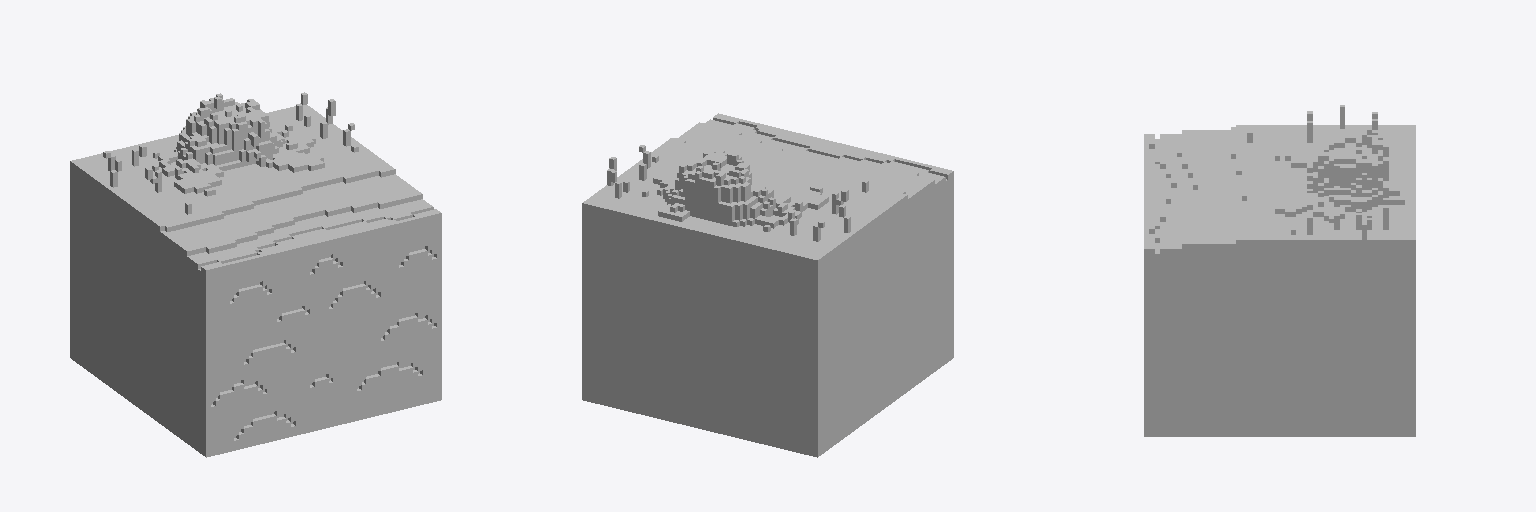
The model's file is wall7_ (1).obj.
3 renders of one model, left to right at view 1: azimuth 30°, elevation 25°; view 2: azimuth 150°, elevation 25°; view 3: azimuth 270°, elevation 25°, orthographic.
Visible parts, largest first — view 1: object 1; view 2: object 1; view 3: object 1.
Part boxes in pixels (x1,y1,x2,y2): object 1: (70, 92, 441, 457); object 1: (582, 113, 953, 457); object 1: (1144, 105, 1415, 436).
Bounding box in the file's own units: 5 × 5 × 5.